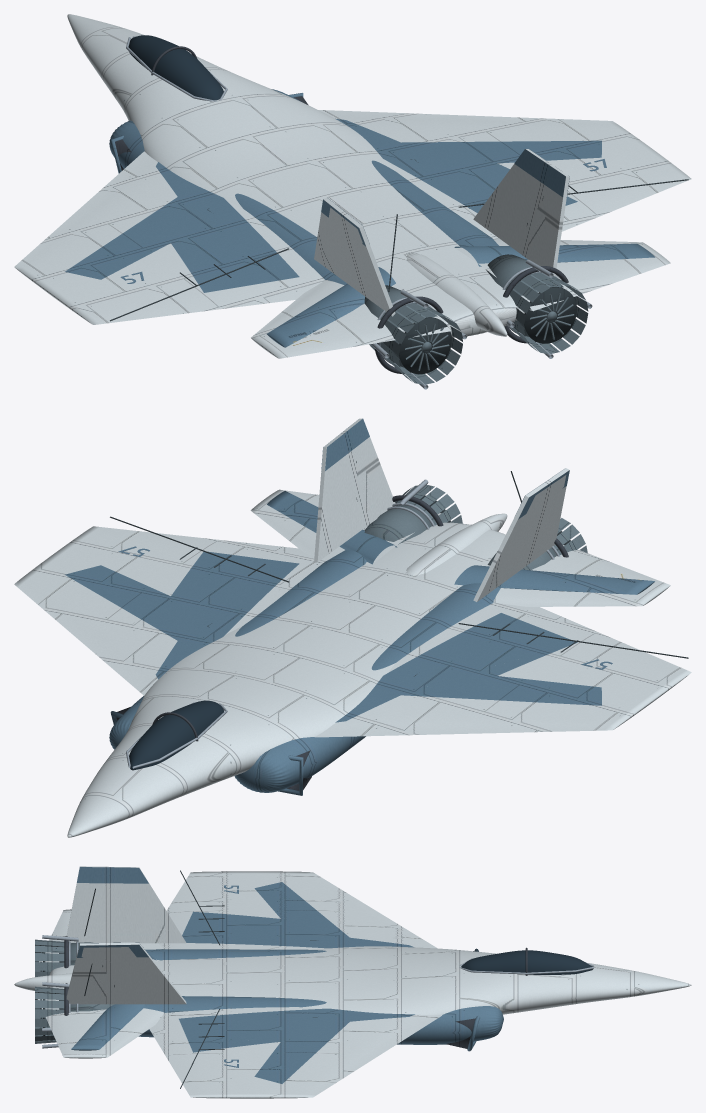
File: snega-high.glb
3 views of the same model, one above another, from view 1: azimuth 30°, elevation 25°; view 2: azimuth 150°, elevation 25°; view 3: azimuth 270°, elevation 25° (orthographic). The views are drawn at different scales.
Visible parts, largest first — view 1: frost-surfaces, slate-surfaces, titanium-surfaces, graphite-surfaces, Cockpit glass-surfaces, carbon-surfaces, silver-surfaces; view 2: frost-surfaces, slate-surfaces, titanium-surfaces, Cockpit glass-surfaces, graphite-surfaces, silver-surfaces, carbon-surfaces; view 3: frost-surfaces, slate-surfaces, titanium-surfaces, Cockpit glass-surfaces, silver-surfaces, graphite-surfaces, carbon-surfaces.
Part boxes in pixels (x1=…): frost-surfaces: x1=14, y1=14, x2=691, y2=358; slate-surfaces: x1=65, y1=89, x2=655, y2=347; titanium-surfaces: x1=364, y1=254, x2=588, y2=384; graphite-surfaces: x1=110, y1=159, x2=688, y2=374; Cockpit glass-surfaces: x1=128, y1=35, x2=223, y2=100; carbon-surfaces: x1=115, y1=46, x2=568, y2=373; silver-surfaces: x1=126, y1=36, x2=592, y2=389; frost-surfaces: x1=14, y1=418, x2=691, y2=837; slate-surfaces: x1=65, y1=419, x2=654, y2=795; titanium-surfaces: x1=364, y1=485, x2=587, y2=570; Cockpit glass-surfaces: x1=129, y1=700, x2=223, y2=770; graphite-surfaces: x1=110, y1=471, x2=688, y2=776; silver-surfaces: x1=126, y1=479, x2=560, y2=768; carbon-surfaces: x1=116, y1=495, x2=568, y2=790; frost-surfaces: x1=14, y1=866, x2=691, y2=1098; slate-surfaces: x1=71, y1=867, x2=503, y2=1083; titanium-surfaces: x1=35, y1=939, x2=114, y2=1043; Cockpit glass-surfaces: x1=461, y1=950, x2=592, y2=974; silver-surfaces: x1=42, y1=935, x2=593, y2=1048; graphite-surfaces: x1=43, y1=870, x2=447, y2=1088; carbon-surfaces: x1=64, y1=936, x2=527, y2=1048.
Bounding box in the file's own units: 8.8 × 2.18 × 11.19.
8 materials, 6 textured.
